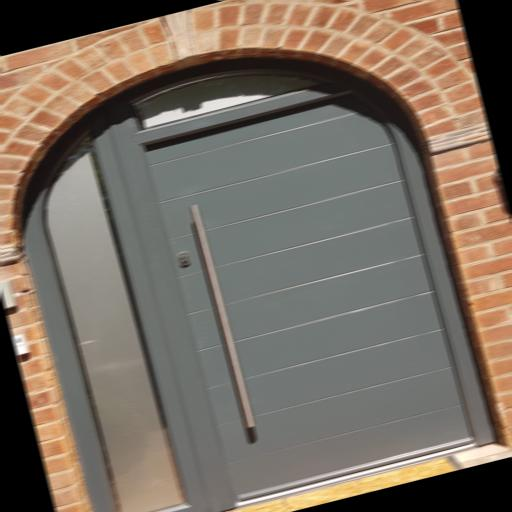Door: (0, 15, 495, 512)
